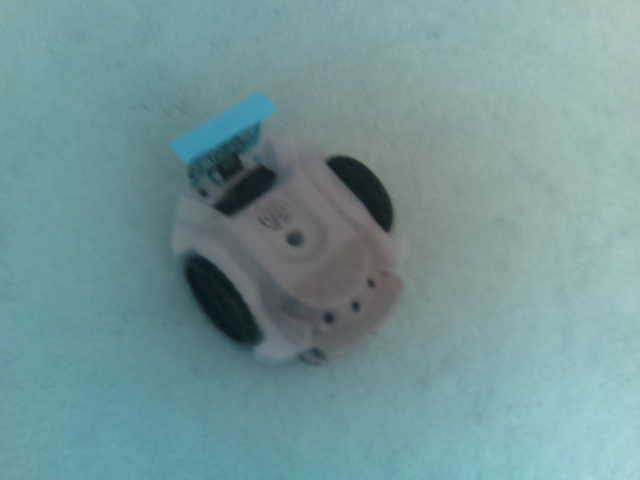board: (171, 85, 277, 163)
chassis: (166, 88, 410, 372)
